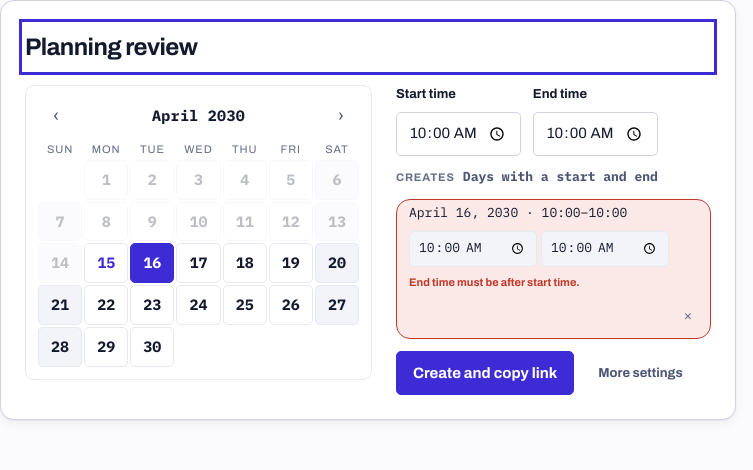
Scenario: AppointmentComposer validation › blocks a day whose end time is not after its start time
Click the button "Create and copy link".
click(485, 374)  # box left=396, top=352, right=574, bottom=396
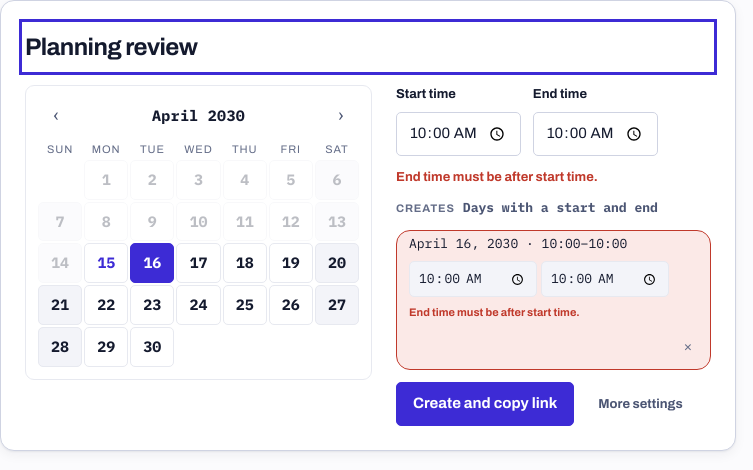
Expected: the message with id "composer-options-error" reads "End time must be after start time.", left=396, top=170, right=598, bottom=184
